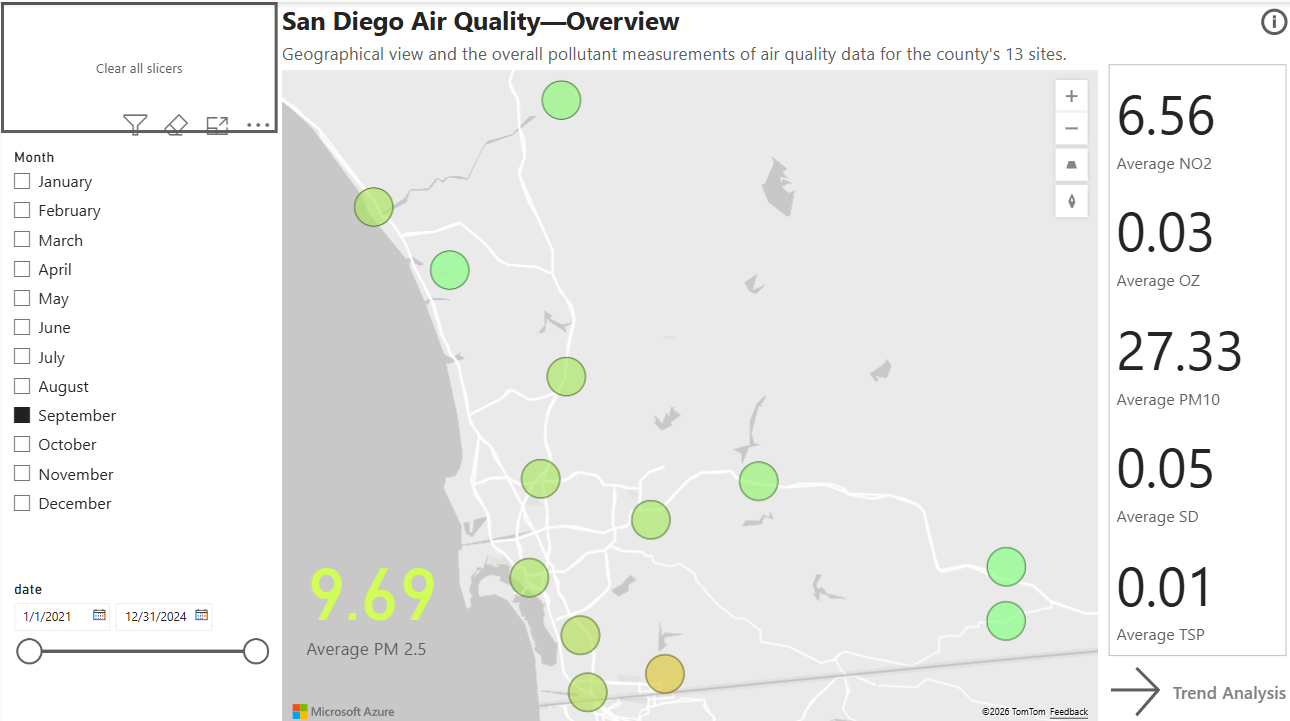

The page's visual inventory and layout, read from the dashboard file:
{"tool":"powerbi","page":{"name":"Overview","canvas":[1280,720],"ordinal":0},"visuals":[{"type":"azureMap","title":"San Diego Air Quality—Overview","fields":{"Y":["Site Data.latitude"],"X":["Site Data.longitude"]},"box":[274.4,0,819.2,719.4],"z":0},{"type":"cardVisual","title":"Average PM 2.5","fields":{"Data":["Air Quality.toolkit_avg_pm25"]},"box":[284.9,525.1,253.4,147],"z":1000},{"type":"slicer","fields":{"Values":["Air Quality.date.Variation.Date Hierarchy.Month"]},"box":[0,140.5,274.4,428],"z":2000},{"type":"slicer","fields":{"Values":["Air Quality.date"]},"box":[0,568.5,274.4,151],"z":3000},{"type":"actionButton","box":[0,0,274.4,130],"z":4000},{"type":"cardVisual","fields":{"Data":["Avg(Air Quality.NO2)","Avg(Air Quality.OZ)","Avg(Air Quality.PM10)","Avg(Air Quality.SD)","Avg(Air Quality.TSP)"]},"box":[1093.6,56.5,186.4,597.3],"z":5000},{"type":"actionButton","box":[1244.6,0,35.4,39.4],"z":6000},{"type":"actionButton","title":"Trend Analysis","box":[1094.1,652.9,185.3,61.8],"z":7000}]}

Visuals, with their boxes in screenshot pixels (x1, y1, x2, y2), scaled from the page's 1280x720 canvas onto the 1290x721 screenshot:
"San Diego Air Quality—Overview" azureMap: box(277, 0, 1102, 720)
"Average PM 2.5" cardVisual: box(287, 526, 543, 673)
slicer - Air Quality.date.Variation.Date Hierarchy.Month: box(0, 141, 277, 569)
slicer - Air Quality.date: box(0, 569, 277, 720)
actionButton: box(0, 0, 277, 130)
cardVisual - Avg(Air Quality.NO2) x Avg(Air Quality.OZ): box(1102, 57, 1289, 655)
actionButton: box(1254, 0, 1289, 39)
"Trend Analysis" actionButton: box(1103, 654, 1289, 716)
